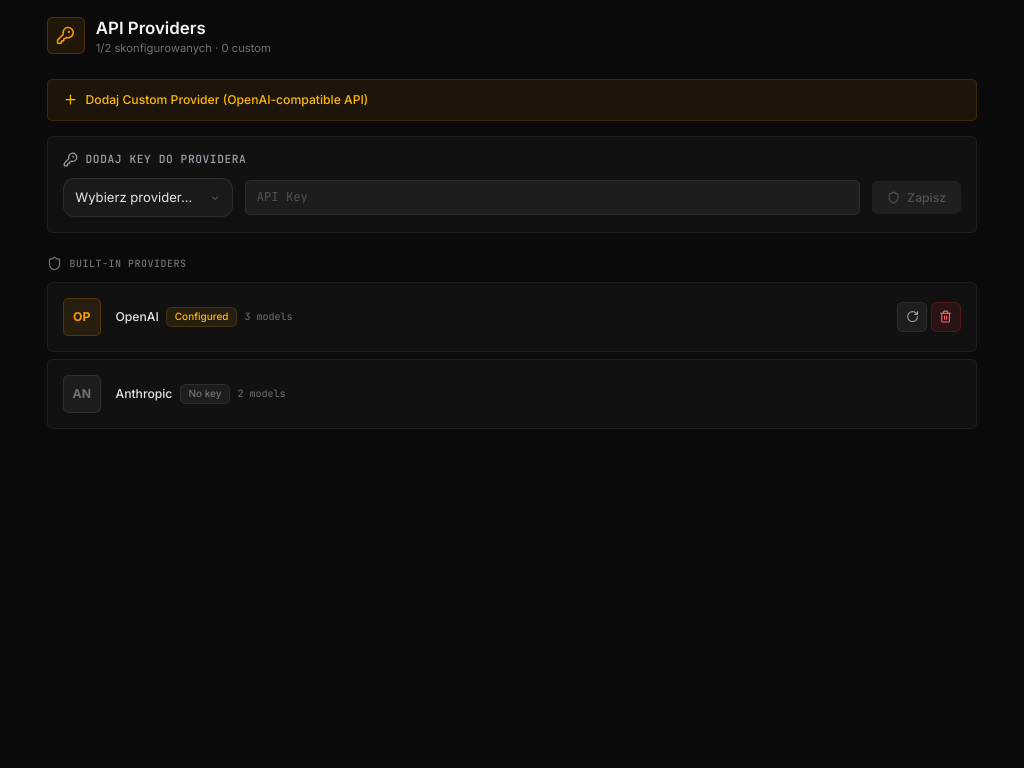
Scenario: ApiKeysPage › opens confirm dialog when delete is clicked
The width and height of the screenshot is (1024, 768).
Click the button titled "Usuń konfigurację" at [946, 317], box [931,302,961,332]
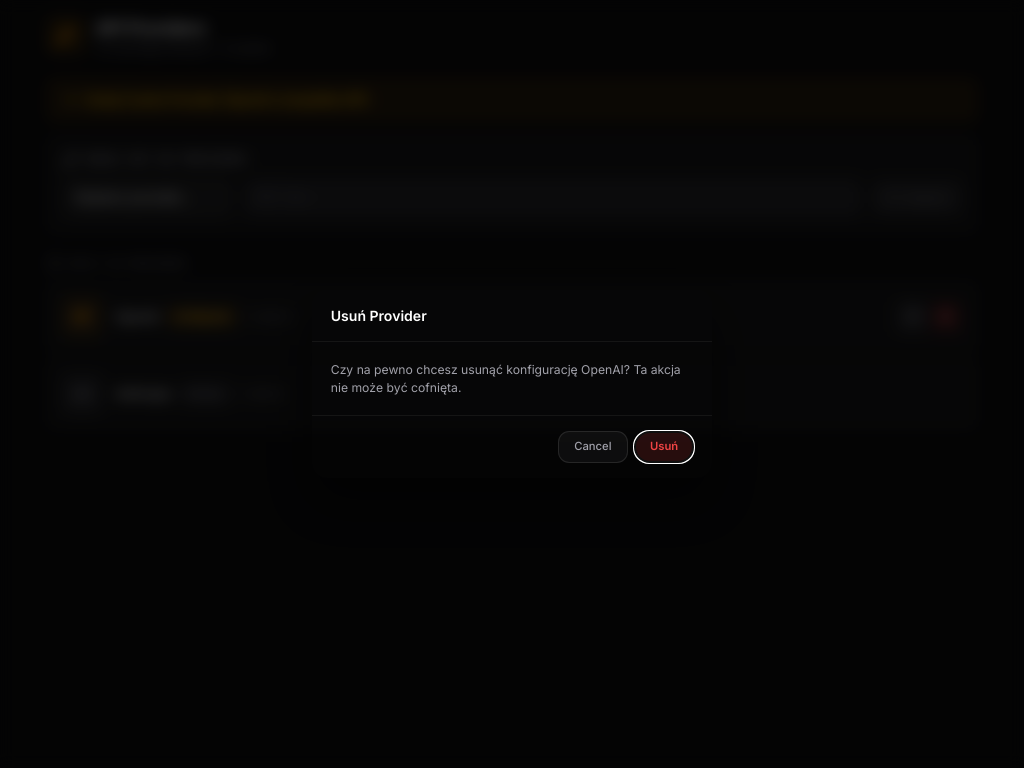
Expected: the heading "Usuń Provider" is shown, [331,305,427,326]
Expected: the button "Usuń" is shown, [635,432,693,462]
